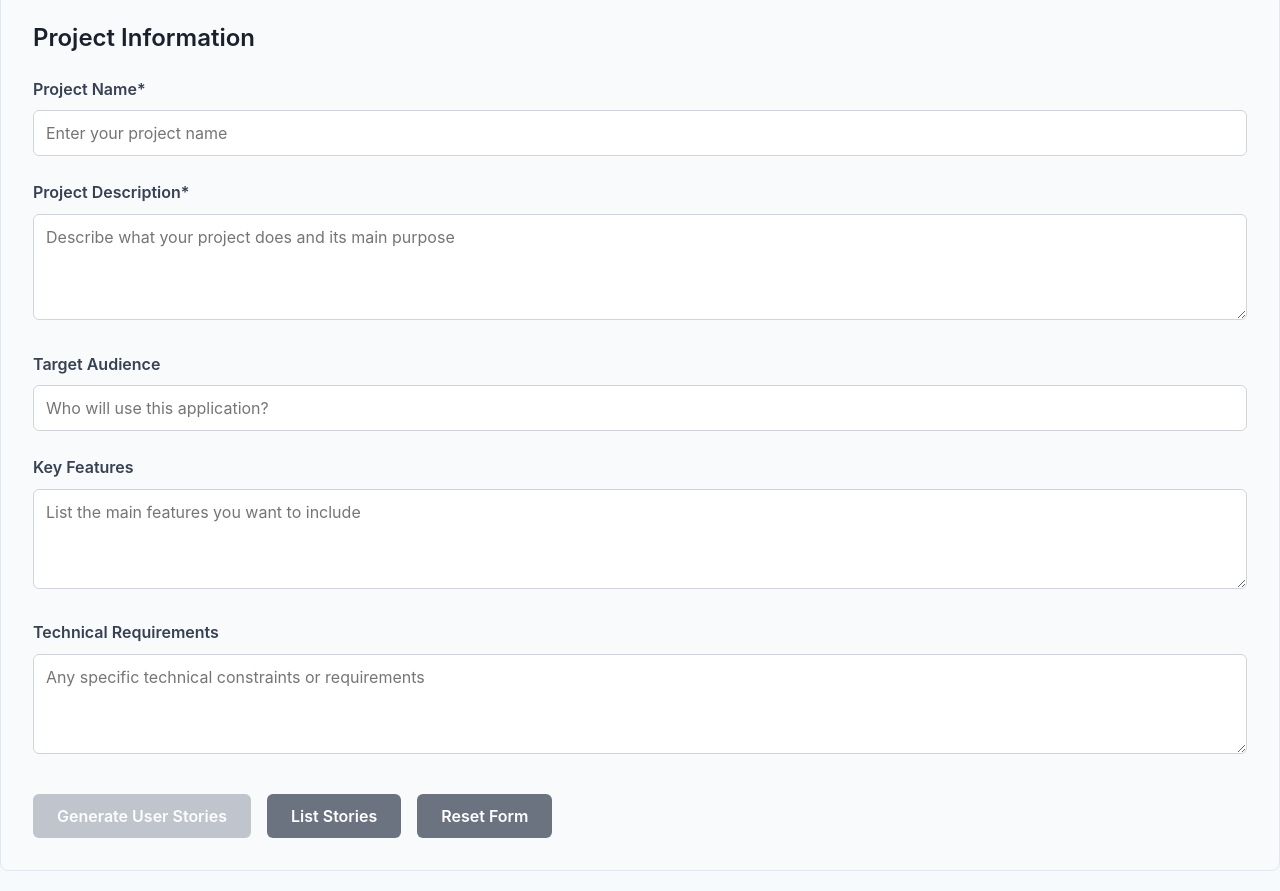
StoryGenerator Component › List Stories Functionality › handles error when listing stories fails
Click the button "List Stories".
click(334, 816)  # box [267,794,401,838]
(page scrolled)
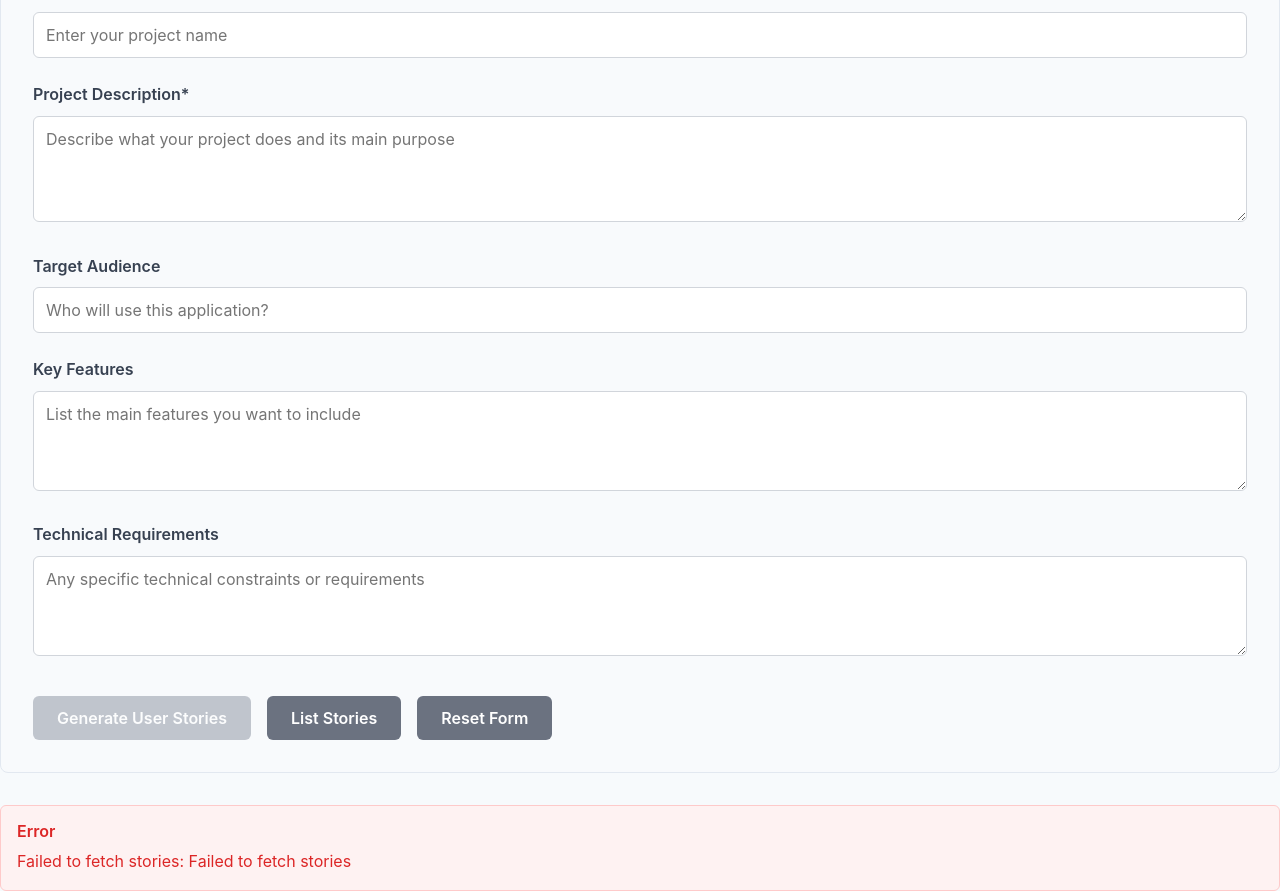
Now the element with class "error-message" is shown, box [0,804,1279,890]
Now the element with class "error-message" shows "Failed to fetch stories: Failed to fetch stories", box [17,851,351,871]
